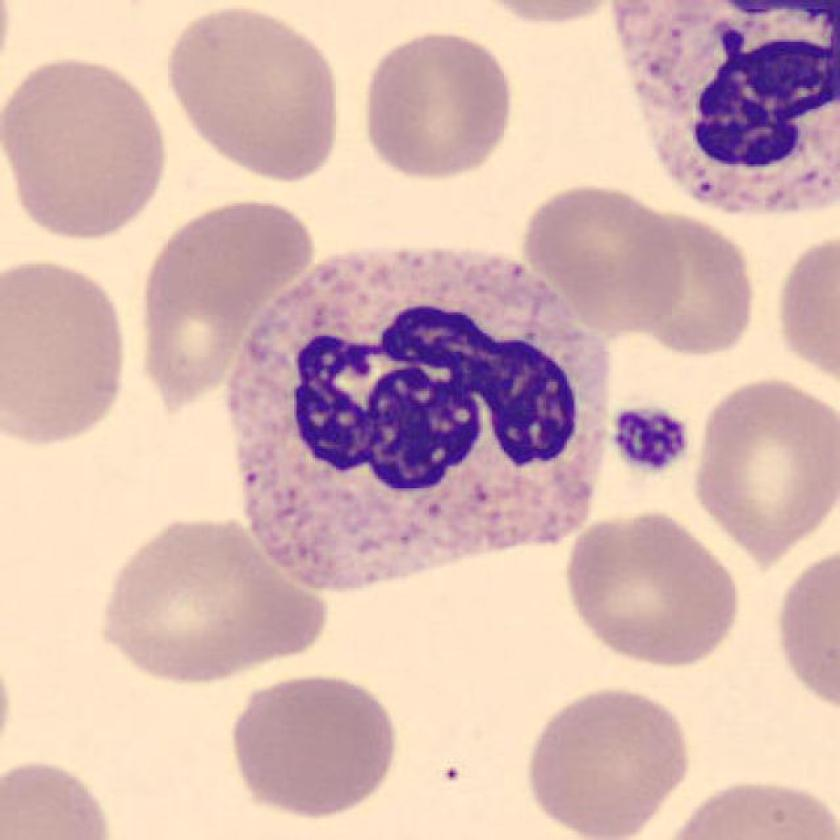neutrophil: (228, 248, 613, 593), (612, 1, 840, 213)
